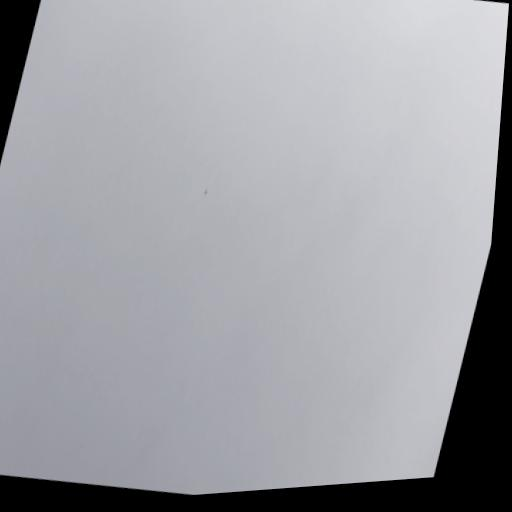drones: (201, 186, 209, 198)
